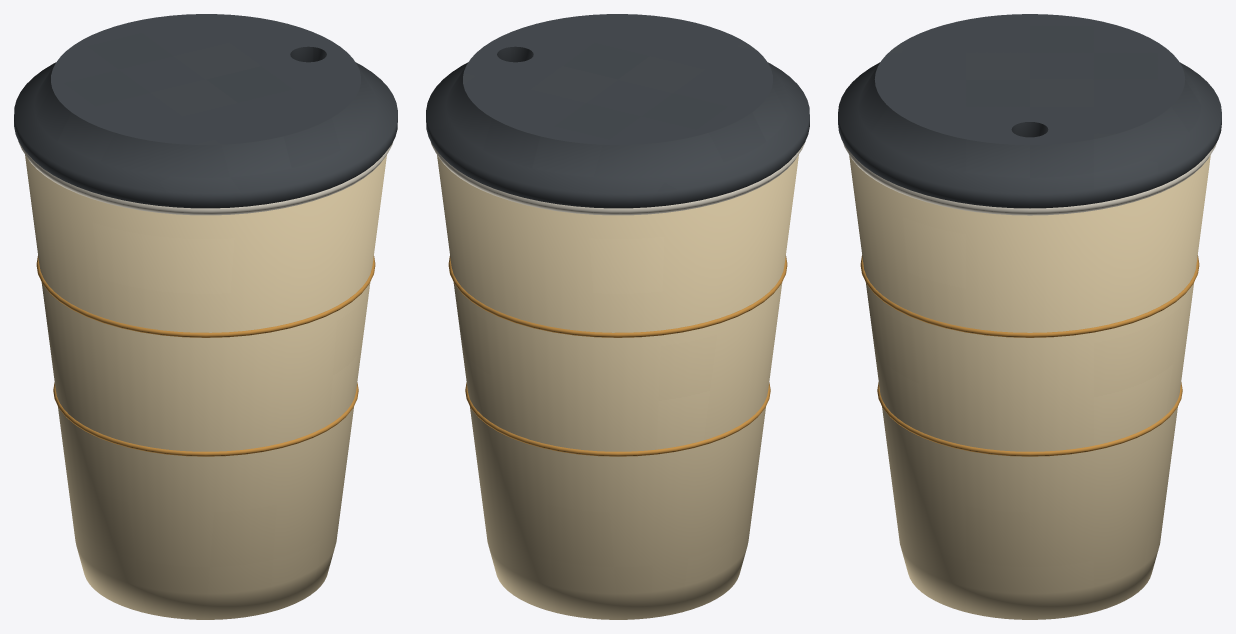
The model's file is coffee-cup-with-lid-original-drink-vessel.glb.
3 renders of one model, left to right at view 1: azimuth 30°, elevation 25°; view 2: azimuth 150°, elevation 25°; view 3: azimuth 270°, elevation 25°, orthographic.
Visible parts, largest first — view 1: Hollow tapered paper coffee cup, Removable domed sipping lid, Rolled paper cup rim, Plain paper sleeve upper edge, Plain paper sleeve lower edge; view 2: Hollow tapered paper coffee cup, Removable domed sipping lid, Rolled paper cup rim, Plain paper sleeve upper edge, Plain paper sleeve lower edge; view 3: Hollow tapered paper coffee cup, Removable domed sipping lid, Rolled paper cup rim, Plain paper sleeve upper edge, Plain paper sleeve lower edge.
Part boxes in pixels (x1=…): Hollow tapered paper coffee cup: x1=25, y1=155, x2=386, y2=619; Removable domed sipping lid: x1=14, y1=14, x2=397, y2=208; Rolled paper cup rim: x1=18, y1=141, x2=392, y2=215; Plain paper sleeve upper edge: x1=36, y1=256, x2=375, y2=337; Plain paper sleeve lower edge: x1=53, y1=382, x2=358, y2=456; Hollow tapered paper coffee cup: x1=437, y1=155, x2=798, y2=619; Removable domed sipping lid: x1=426, y1=14, x2=809, y2=208; Rolled paper cup rim: x1=431, y1=141, x2=805, y2=215; Plain paper sleeve upper edge: x1=448, y1=256, x2=787, y2=337; Plain paper sleeve lower edge: x1=465, y1=382, x2=770, y2=456; Hollow tapered paper coffee cup: x1=849, y1=155, x2=1210, y2=619; Removable domed sipping lid: x1=838, y1=14, x2=1221, y2=208; Rolled paper cup rim: x1=842, y1=141, x2=1217, y2=215; Plain paper sleeve upper edge: x1=860, y1=255, x2=1199, y2=337; Plain paper sleeve lower edge: x1=877, y1=382, x2=1182, y2=456.
Bounding box in the file's own units: 0.094 × 0.132 × 0.094.
Materials: 4 (4 with a texture image).
